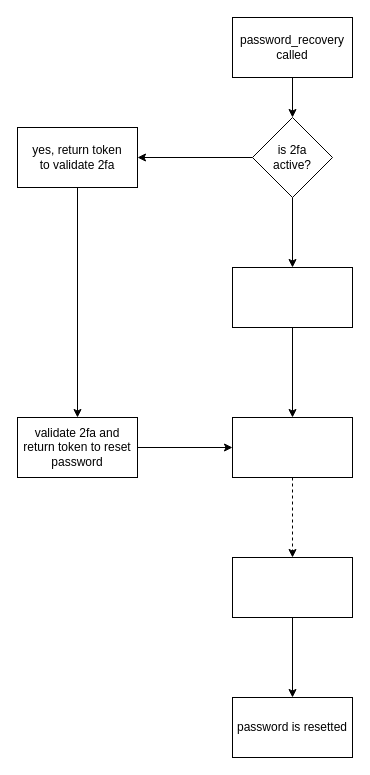
The diagram is 370 pixels wide and 775 high, and some of its shapes have lost their labels. The centre of each missing label's shape, as x and y in pixels:
no, return token to reset password: the point at 292,297
password reset called with token: the point at 292,587
token is sent to the user email: the point at 292,447
